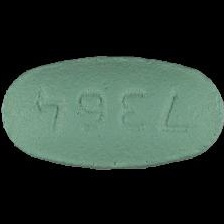54868-6117: (0, 0, 224, 224)
